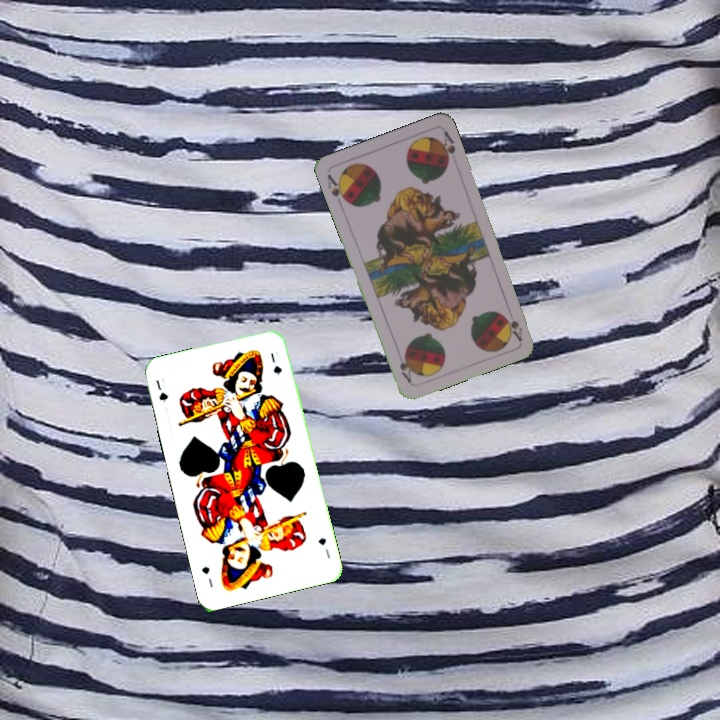GU: (152, 374, 170, 405), (314, 534, 333, 561)
SA: (323, 170, 351, 209), (502, 312, 525, 343)
